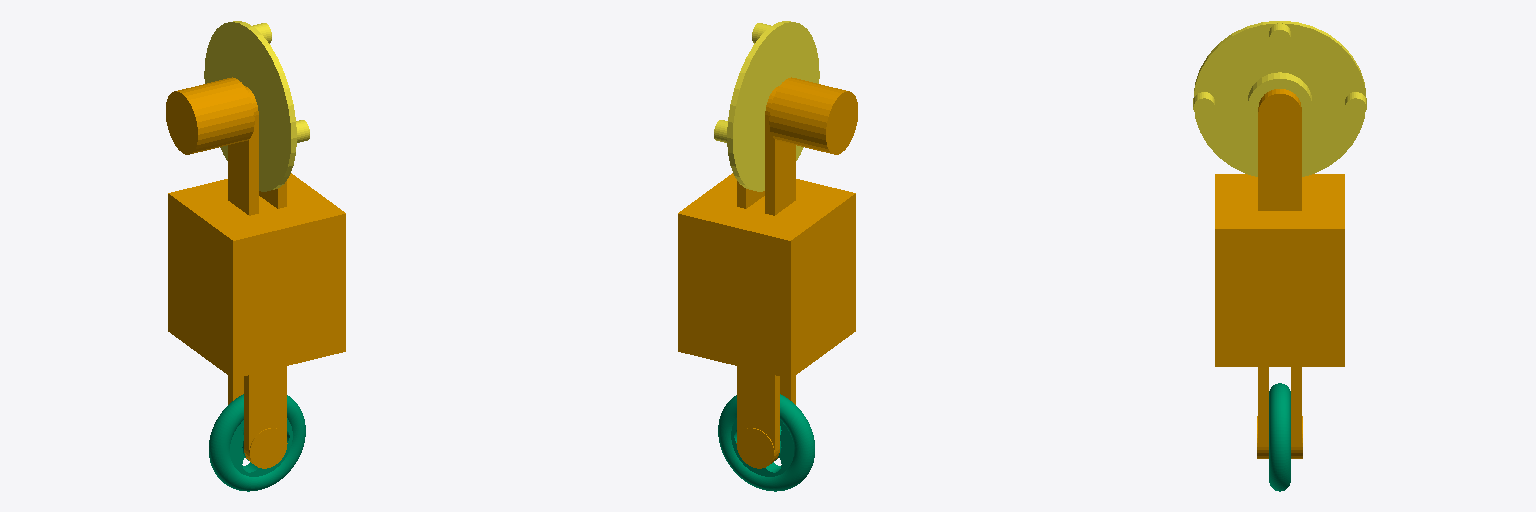
URDF robot description (unicycle):
<?xml version="1.0"?>
<robot name="unicycle">

<!-- LINKS -->

  <link name="body_link">
    <inertial>
      <mass value="1.5"/>
      <origin rpy="0  0  0" xyz="0  0  0"/>
      <inertia ixx="0.00425" ixy="0" ixz="0" iyy="0.00425" iyz="0" izz="0.0036"/>                     
    </inertial>
    <visual>
      <origin rpy="0  0  0" xyz="0 0 0"/>
      <geometry>
        <box size="0.12 0.12 0.14"/> 
      </geometry>
    </visual>

    <visual>
      <origin rpy="0  0  0" xyz="0.015 0 0.12"/>
      <geometry>
        <box size="0.01 0.04 0.1"/> 
      </geometry>
    </visual>
    <visual>
      <origin rpy="0  0  0" xyz="-0.015 0 0.12"/>
      <geometry>
        <box size="0.01 0.04 0.1"/> 
      </geometry>
    </visual>
    <visual>
      <origin rpy="0  1.5708  0" xyz="0.015 0 0.17"/>
      <geometry>
        <cylinder length="0.012" radius="0.02"/> 
      </geometry>
    </visual>
    <visual>
      <origin rpy="0  1.5708  0" xyz="-0.015 0 0.17"/>
      <geometry>
        <cylinder length="0.012" radius="0.02"/> 
      </geometry>
    </visual>

    <visual>
      <origin rpy="0  0  0" xyz="0 0.015 -0.12"/>
      <geometry>
        <box size="0.04 0.01 0.1"/> 
      </geometry>
    </visual>
    <visual>
      <origin rpy="0  0  0" xyz="0 -0.015 -0.12"/>
      <geometry>
        <box size="0.04 0.01 0.1"/> 
      </geometry>
    </visual>
    <visual>
      <origin rpy="1.5708  0  0" xyz="0 0.015 -0.17"/>
      <geometry>
        <cylinder length="0.012" radius="0.02"/> 
      </geometry>
    </visual>
    <visual>
      <origin rpy="1.5708  0  0" xyz="0 -0.015 -0.17"/>
      <geometry>
        <cylinder length="0.012" radius="0.02"/> 
      </geometry>
    </visual>

    <visual>
      <origin rpy="0  1.5708  0" xyz="-0.05 0 0.17"/>
      <geometry>
        <cylinder length="0.06" radius="0.03"/> 
      </geometry>
    </visual>

    <collision>
      <origin rpy="0  0  0" xyz="0 0 0"/>
      <geometry>
        <box size="0.12 0.12 0.14"/> 
      </geometry>
    </collision>
  </link>

  <link name="imu_link">
    <inertial>
      <mass value="0"/>
      <origin rpy="0 0 0" xyz="0 0 0"/>
      <inertia ixx="0" ixy="0" ixz="0" iyy="0" iyz="0" izz="0"/>
    </inertial>
    <visual>
      <origin rpy="0 0 0" xyz="0 0 0"/>
      <geometry>
        <box size="0.01 0.01 0.01"/>
      </geometry>
    </visual>
  </link> 

  <link name="wheel_link">
    <inertial>
      <mass value="0.5"/>
      <origin rpy="0  0  0" xyz="0  0  0"/>
      <inertia ixx="0.000329166" ixy="0" ixz="0" iyy="0.000625" iyz="0" izz="0.000329166"/>                      
    </inertial>
    <visual>
      <origin rpy="1.5708  0  0" xyz="0 0 0"/>
      <geometry>
        <!--<cylinder length="0.02" radius="0.05"/>-->
        <mesh filename="package://unicycle/meshes/wheel.stl"/>
      </geometry>
    </visual>
    <collision>
      <origin rpy="1.5708  0  0" xyz="0 0 0"/>
      <geometry>
        <!--<cylinder length="0.02" radius="0.05"/>-->
        <mesh filename="package://unicycle/meshes/wheel_simple.stl"/>
      </geometry>
    </collision>
  </link>

  <link name="disc_link">
    <inertial>
      <mass value="0.85"/>
      <origin rpy="0  0  0" xyz="0  0  0"/>
      <inertia ixx="0.00272" ixy="0" ixz="0" iyy="0.001388333" iyz="0" izz="0.001388333"/>                      <!-- -->
    </inertial>
    <visual>
      <origin rpy="0  1.5708  0" xyz="-0.007 0 0"/>
      <geometry>
        <cylinder length="0.006" radius="0.08"/> 
        <!--<mesh filename="package://unicycle/meshes/disk.stl"/>-->
      </geometry>
    </visual>
    <visual>
      <origin rpy="0  1.5708  0" xyz="0 0 0"/>
      <geometry>
        <cylinder length="0.02" radius="0.03"/> 
      </geometry>
    </visual>
    <visual>
      <origin rpy="0  1.5708  0" xyz="0 0 0.07"/>
      <geometry>
        <cylinder length="0.02" radius="0.01"/> 
      </geometry>
    </visual>
    <visual>
      <origin rpy="0  1.5708  0" xyz="0 0 -0.07"/>
      <geometry>
        <cylinder length="0.02" radius="0.01"/> 
      </geometry>
    </visual>
    <visual>
      <origin rpy="0  1.5708  0" xyz="0 0.07 0"/>
      <geometry>
        <cylinder length="0.02" radius="0.01"/> 
      </geometry>
    </visual>
    <visual>
      <origin rpy="0  1.5708  0" xyz="0 -0.07 0"/>
      <geometry>
        <cylinder length="0.02" radius="0.01"/> 
      </geometry>
    </visual>
    <collision>
      <origin rpy="0  1.5708 0" xyz="0 0 0"/>
      <geometry>
        <cylinder length="0.02" radius="0.08"/>
      </geometry>
    </collision>
  </link>

  <gazebo reference="wheel_link">
    <kp>1000000.0</kp>
    <kd>1.0</kd>
    <mu1>0.9</mu1>
    <mu2>0.9</mu2>
    <dampingFactor>0</dampingFactor>
    <fdir1>0 0 0</fdir1>
    <maxVel>50</maxVel>
    <minDepth>0.001</minDepth>
    <maxContacts>5</maxContacts>
    <material>Gazebo/Grey</material> 
  </gazebo> 

  <gazebo reference="disc_link">
    <material>Gazebo/DarkYellow</material> 
  </gazebo> 

  <gazebo reference="body_link">
    <material>Gazebo/White</material> 
  </gazebo> 


<!-- JOINTS -->
  <joint name="wheel" type="revolute">
    <parent link="body_link"/>
    <child link="wheel_link"/>
    <origin rpy="0      0      0" xyz="0   0  -0.17"/>
    <axis xyz="0  1  0"/>
    <!--<dynamics friction = "0.001"/> -->
    <limit effort="10.0" lower="-1.79769e+308" upper="1.79769e+308" velocity="150.0"/>
  </joint>

  <joint name="disc" type="revolute">
    <parent link="body_link"/>
    <child link="disc_link"/>
    <origin rpy="0      0      0" xyz="0   0  0.17"/>
    <axis xyz="1  0  0"/>
    <!--<dynamics friction = "0.001"/> -->
    <limit effort="10.0" lower="-1.79769e+308" upper="1.79769e+308" velocity="150.0"/>
  </joint>

  <joint name="body_imu_joint" type="fixed">
    <parent link="body_link"/>
    <child link="imu_link"/>
    <origin rpy="0 0 0" xyz="0 0 0"/>
  </joint>


<!-- TRANSMISSIONS -->
  <transmission name="wheel_trans">
    <type>transmission_interface/SimpleTransmission</type>
    <actuator name="wheel_motor">
      <mechanicalReduction>1</mechanicalReduction>
    </actuator>
    <joint name="wheel">
      <hardwareInterface>hardware_interface/EffortJointInterface</hardwareInterface>
    </joint>
  </transmission>

  <transmission name="disc_trans">
    <type>transmission_interface/SimpleTransmission</type>
    <actuator name="disc_motor">
      <mechanicalReduction>1</mechanicalReduction>
    </actuator>
    <joint name="disc">
      <hardwareInterface>hardware_interface/EffortJointInterface</hardwareInterface>
    </joint>
  </transmission>

<!-- GAZEBO PLUGINS-->
  <gazebo>
    <plugin name="gazebo_ros_control" filename="libgazebo_ros_control.so">
      <robotNamespace>/unicycle</robotNamespace>
      <legacyModeNS>true</legacyModeNS>
      <!-- robotSimType>gazebo_ros_control/DefaultRobotHWSim</robotSimType -->
      <!-- robotParam>/balancer/robot_description</robotParam -->
    </plugin>
  </gazebo>

  <gazebo reference="imu_link">
    <gravity>true</gravity>
    <sensor name="imu_sensor" type="imu">
      <always_on>true</always_on>
      <update_rate>200</update_rate>
      <visualize>true</visualize>
      <topic>__default_topic__</topic>
      <plugin filename="libgazebo_ros_imu_sensor.so" name="imu_plugin">
        <topicName>unicycle/imu_data</topicName>
        <bodyName>imu_link</bodyName>
        <updateRateHZ>200.0</updateRateHZ>
        <gaussianNoise>0.0</gaussianNoise>
        <xyzOffset>0 0 0</xyzOffset>
        <rpyOffset>0 0 0</rpyOffset>
        <frameName>imu_link</frameName>
        <initialOrientationAsReference>false</initialOrientationAsReference>
      </plugin>
      <pose>0 0 0 0 0 0</pose>
    </sensor>
  </gazebo> 

  <!--<gazebo>
    <plugin name="imu_body" filename="libgazebo_ros_imu.so">
      <alwaysOn>true</alwaysOn>
      <robotNamespace>/unicycle</robotNamespace>
      <topicName>imu_data</topicName>
      <bodyName>body_link</bodyName>
      <serviceName>/imu_service</serviceName>
      <gaussianNoise>0.0</gaussianNoise>    
      <updateRate>200.0</updateRate>
    </plugin>
  </gazebo> -->

</robot>

--- Facts derived from the render (not from the file) ---
Views: 3 orthographic renders of the robot side by side, from view 1: azimuth 30°, elevation 25°; view 2: azimuth 150°, elevation 25°; view 3: azimuth 270°, elevation 25°.
Model unicycle with 4 links and 3 joints (2 revolute, 1 fixed), rooted at body_link, posed all joints at 0.
Visible links, largest first — view 1: body_link, disc_link, wheel_link; view 2: body_link, disc_link, wheel_link; view 3: body_link, disc_link, wheel_link.
Boxes of the visible links, left/top/right/bottom form: body_link: left=166, top=77, right=345, bottom=468; disc_link: left=204, top=21, right=309, bottom=191; wheel_link: left=209, top=394, right=305, bottom=491; body_link: left=678, top=77, right=857, bottom=468; disc_link: left=714, top=21, right=819, bottom=191; wheel_link: left=718, top=394, right=814, bottom=491; body_link: left=1215, top=89, right=1344, bottom=458; disc_link: left=1193, top=21, right=1366, bottom=176; wheel_link: left=1269, top=383, right=1290, bottom=491.
Size in the robot's own frame: 0.14 by 0.16 by 0.47 metres.
Meshes: 1 distinct files referenced, 1 mesh visuals loaded (1 ASCII STL).